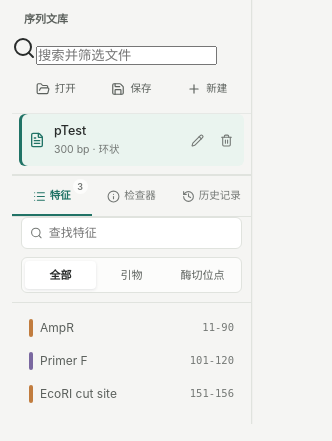
Sidebar › filters annotations without changing tools or workspaces
The width and height of the screenshot is (332, 441).
Check: the text "AmpR" is shown, box 40,319 -> 74,337
Click the button "引物" at coordinates (132, 275), box 96,261 -> 167,289
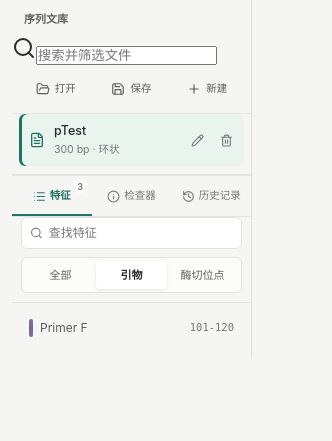
Check: the text "Primer F" is shown, box 40,319 -> 88,337
Check: the button "AmpR" is gone
Click the button "酶切位点" at coordinates (202, 275), box 167,261 -> 238,289
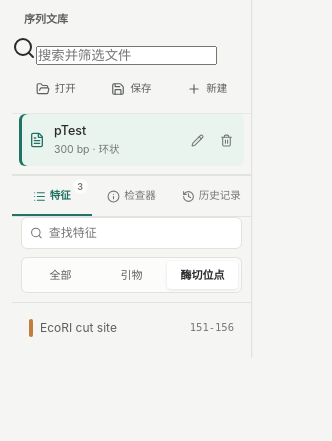
Check: the text "EcoRI cut site" is shown, box 40,319 -> 117,337
Check: the button "Primer F" is gone
